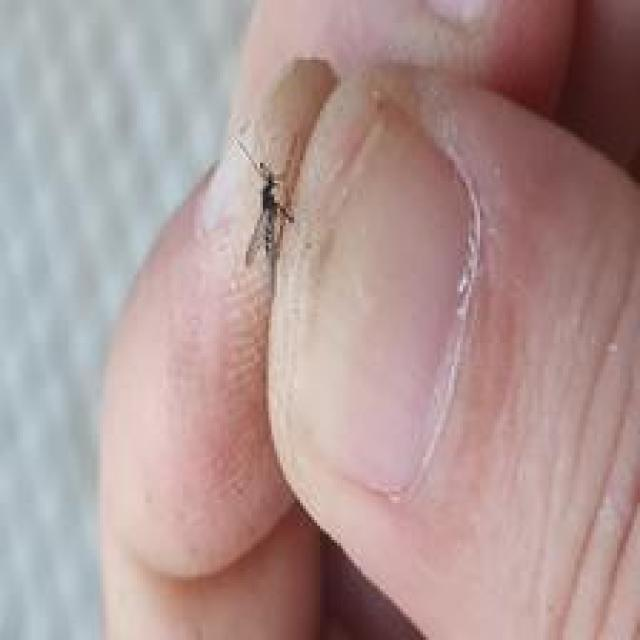Aedes albopictus: (233, 134, 296, 269)
